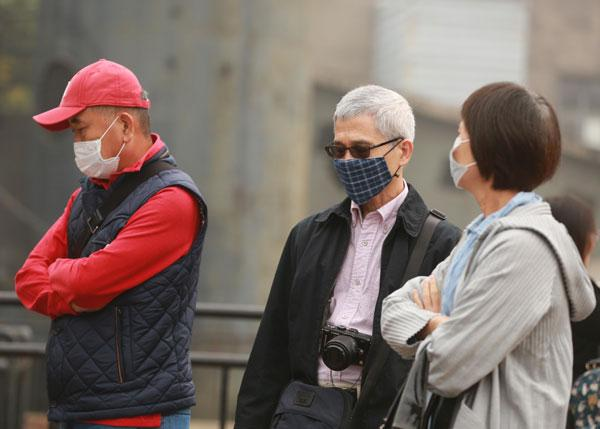mask: (328, 110, 404, 205), (446, 96, 509, 199), (71, 95, 141, 178)
